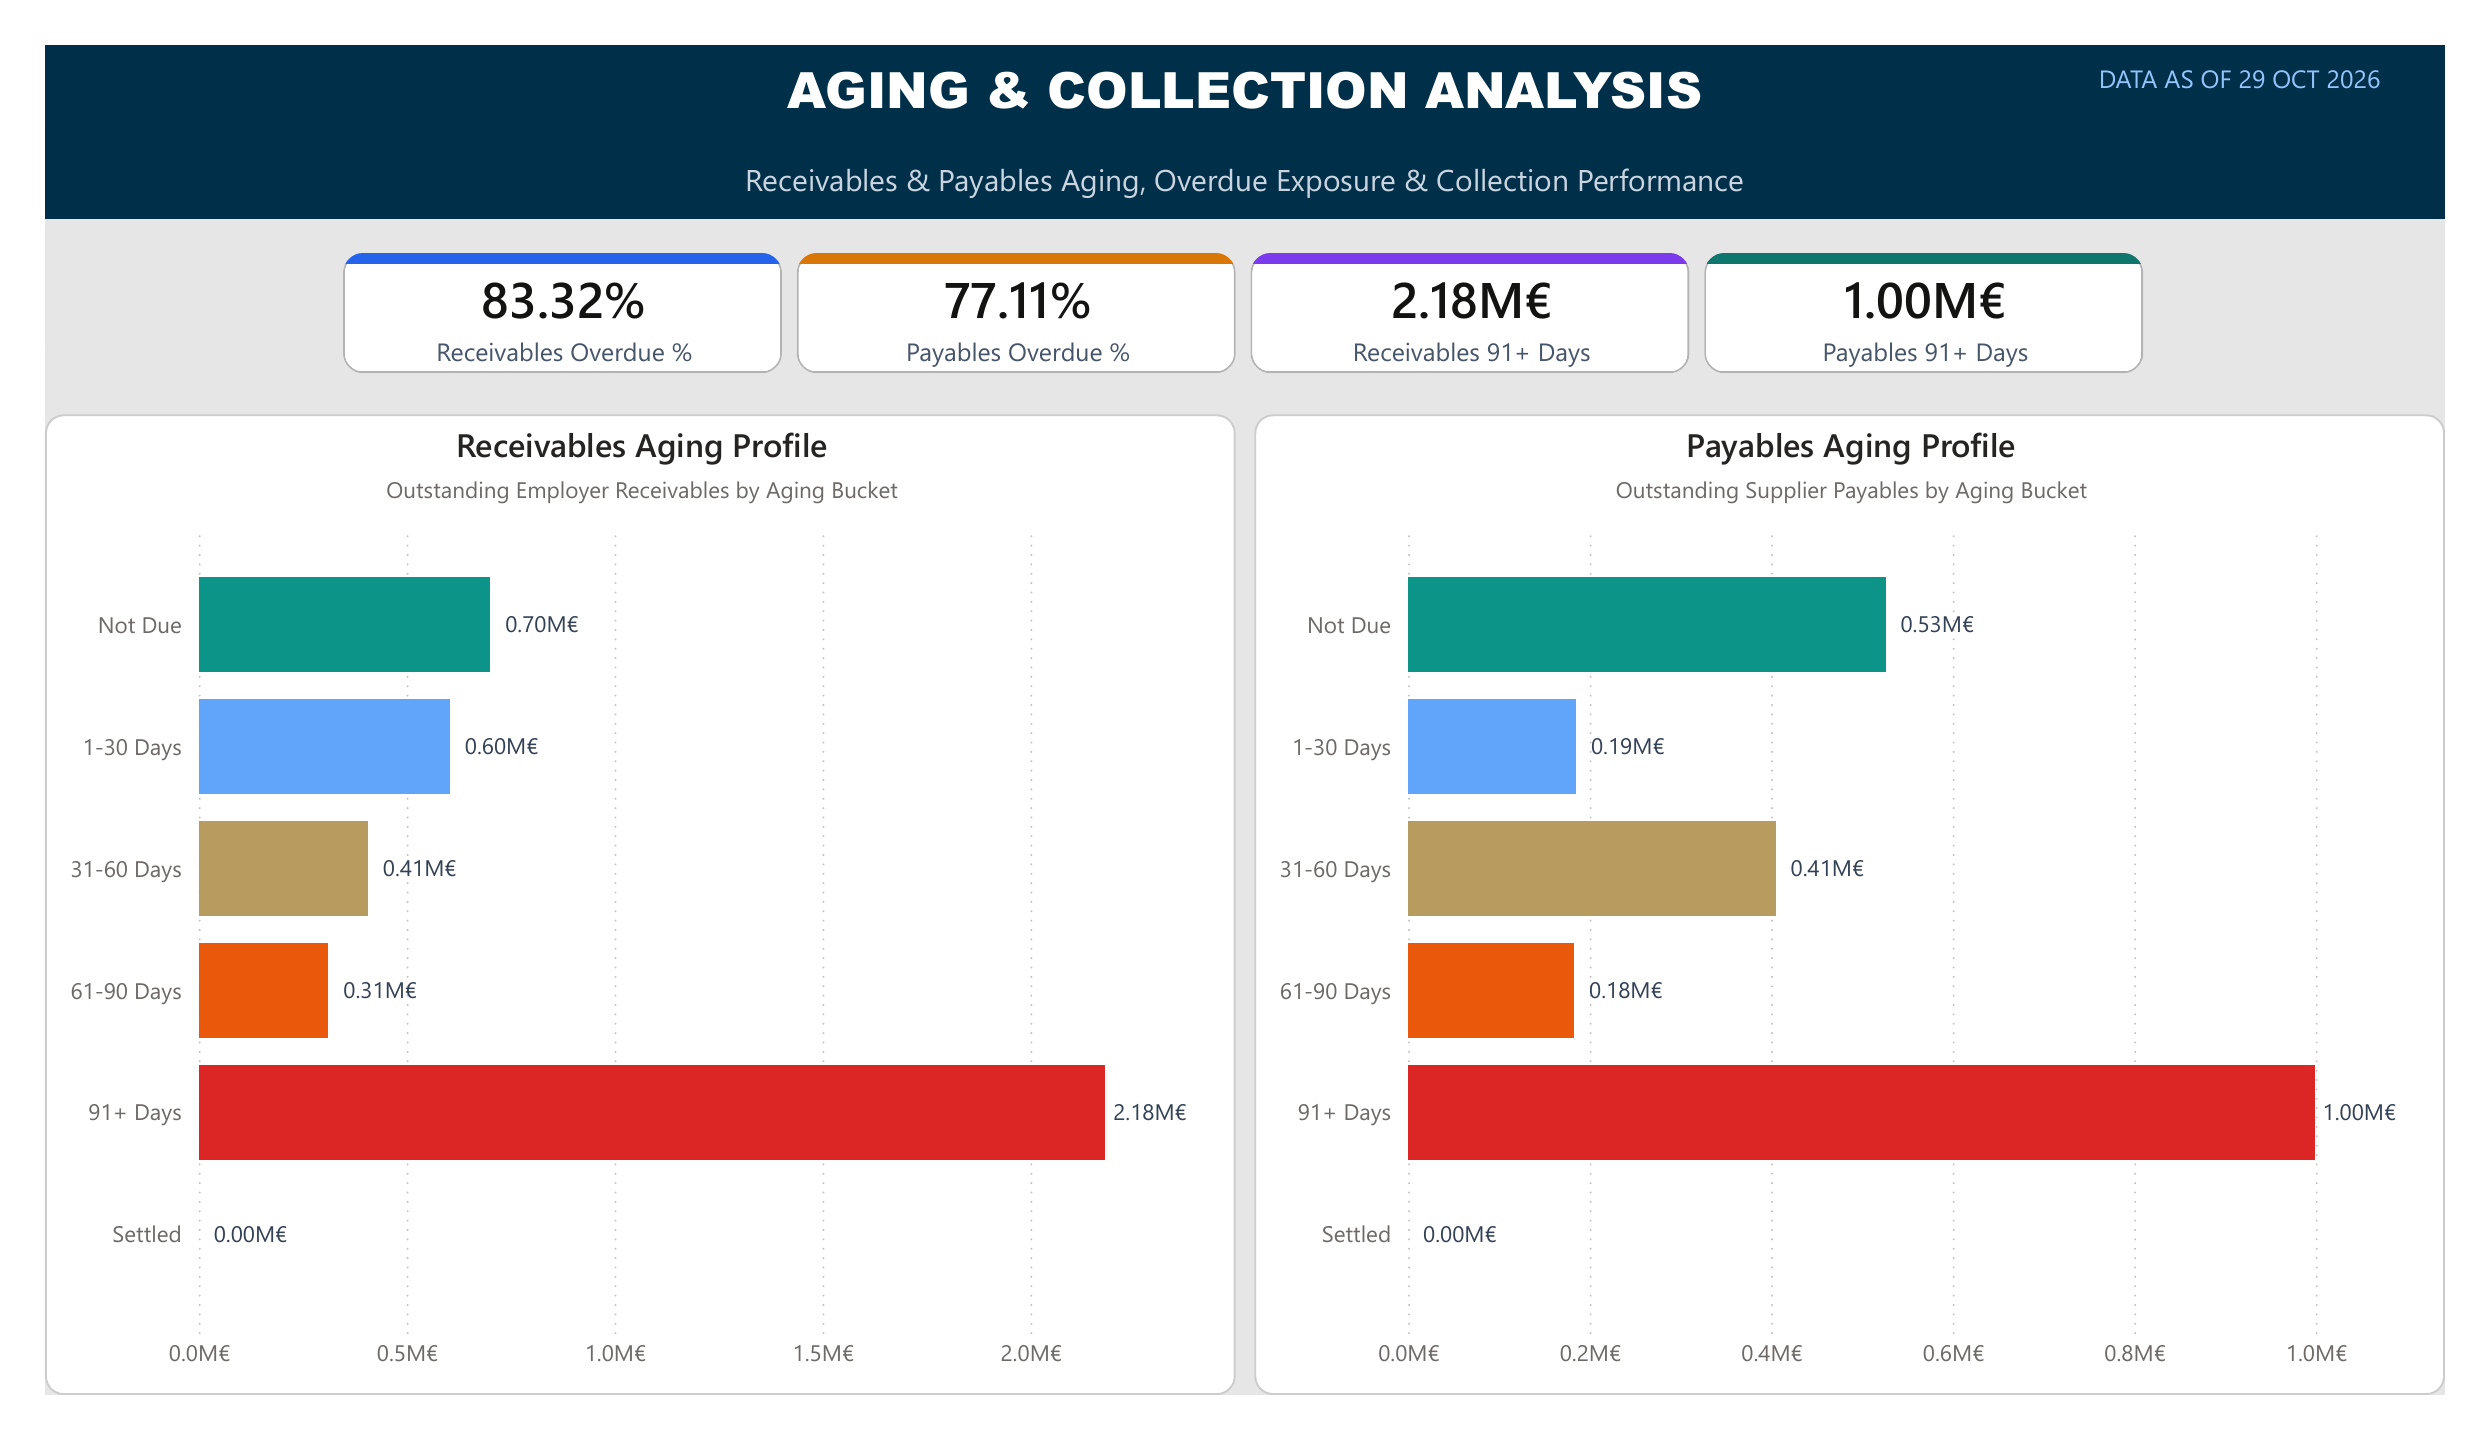

The dashboard page shown, as its layout file describes it:
{"tool":"powerbi","page":{"name":"Aging & Collection Analysis","canvas":[1280,720],"ordinal":2},"visuals":[{"type":"group","id":"g1","title":"Group 1","box":[0,0,1280.2,93.2],"z":0,"group":"g2"},{"type":"clusteredBarChart","title":"Receivables Aging Profile","fields":{"Category":["Fact_Documents.AgingBucketAsOf"],"Y":["_Measures.Open Receivables - Snapshot"]},"box":[0,197,635,523],"z":0},{"type":"textbox","box":[1060.7,4,219.3,46.5],"z":1000,"group":"g2"},{"type":"clusteredBarChart","title":"Payables Aging Profile","fields":{"Category":["Fact_Documents.AgingBucketAsOf"],"Y":["_Measures.Open Payables - Snapshot"]},"box":[644.9,197,635,523],"z":1000},{"type":"cardVisual","fields":{"Data":["_Measures.Receivables Overdue %","_Measures.Payables Overdue %","_Measures.Receivables 91+ Days","_Measures.Payables 91+ Days"]},"box":[154.5,106.3,970.9,73.7],"z":2000},{"type":"textbox","box":[0,0,1280.2,56.2],"z":4000,"group":"g1"},{"type":"group","id":"g2","title":"Group 2","box":[0,0,1280.2,93.2],"z":5000},{"type":"textbox","box":[0,56.2,1280.2,37],"z":5000,"group":"g1"}]}

Visuals, with their boxes in screenshot pixels (x1, y1, x2, y2), scaled from the page's 1280x720 canvas onto the 2490x1440 screenshot:
"Group 1" group: x1=0, y1=0, x2=2489, y2=186
"Receivables Aging Profile" clusteredBarChart: x1=0, y1=394, x2=1235, y2=1439
textbox: x1=2063, y1=8, x2=2489, y2=101
"Payables Aging Profile" clusteredBarChart: x1=1255, y1=394, x2=2489, y2=1439
cardVisual - _Measures.Receivables Overdue % x _Measures.Payables Overdue %: x1=301, y1=213, x2=2189, y2=360
textbox: x1=0, y1=0, x2=2489, y2=112
"Group 2" group: x1=0, y1=0, x2=2489, y2=186
textbox: x1=0, y1=112, x2=2489, y2=186
